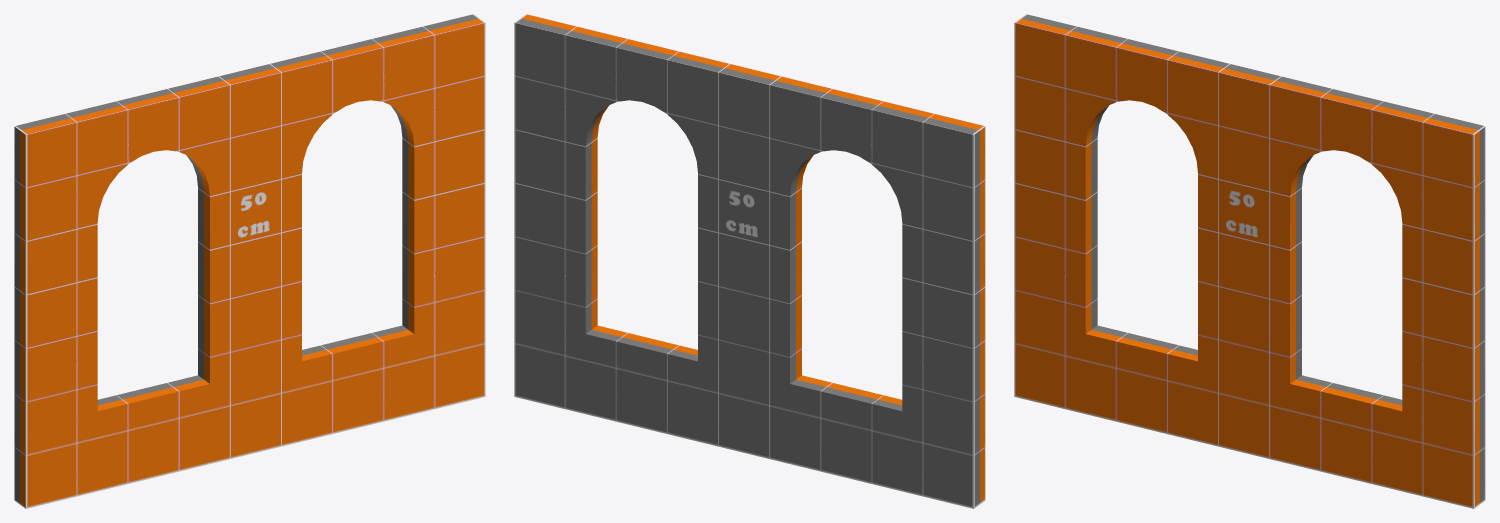
Rendered from M01WallWindowTypeG_2.FBX.
3 renders of one model, left to right at view 1: azimuth 30°, elevation 25°; view 2: azimuth 150°, elevation 25°; view 3: azimuth 330°, elevation 25°, orthographic.
Parts seen in each view (by area): view 1: M01WallWindowTypeG_2; view 2: M01WallWindowTypeG_2; view 3: M01WallWindowTypeG_2.
Part boxes in pixels (box(x1,y1,x2,y2)): M01WallWindowTypeG_2: box(14, 14, 485, 508); M01WallWindowTypeG_2: box(514, 14, 985, 508); M01WallWindowTypeG_2: box(1014, 14, 1485, 508).
Size of what is drawn, in the model's own units: 4.5 by 3.5 by 0.2.
